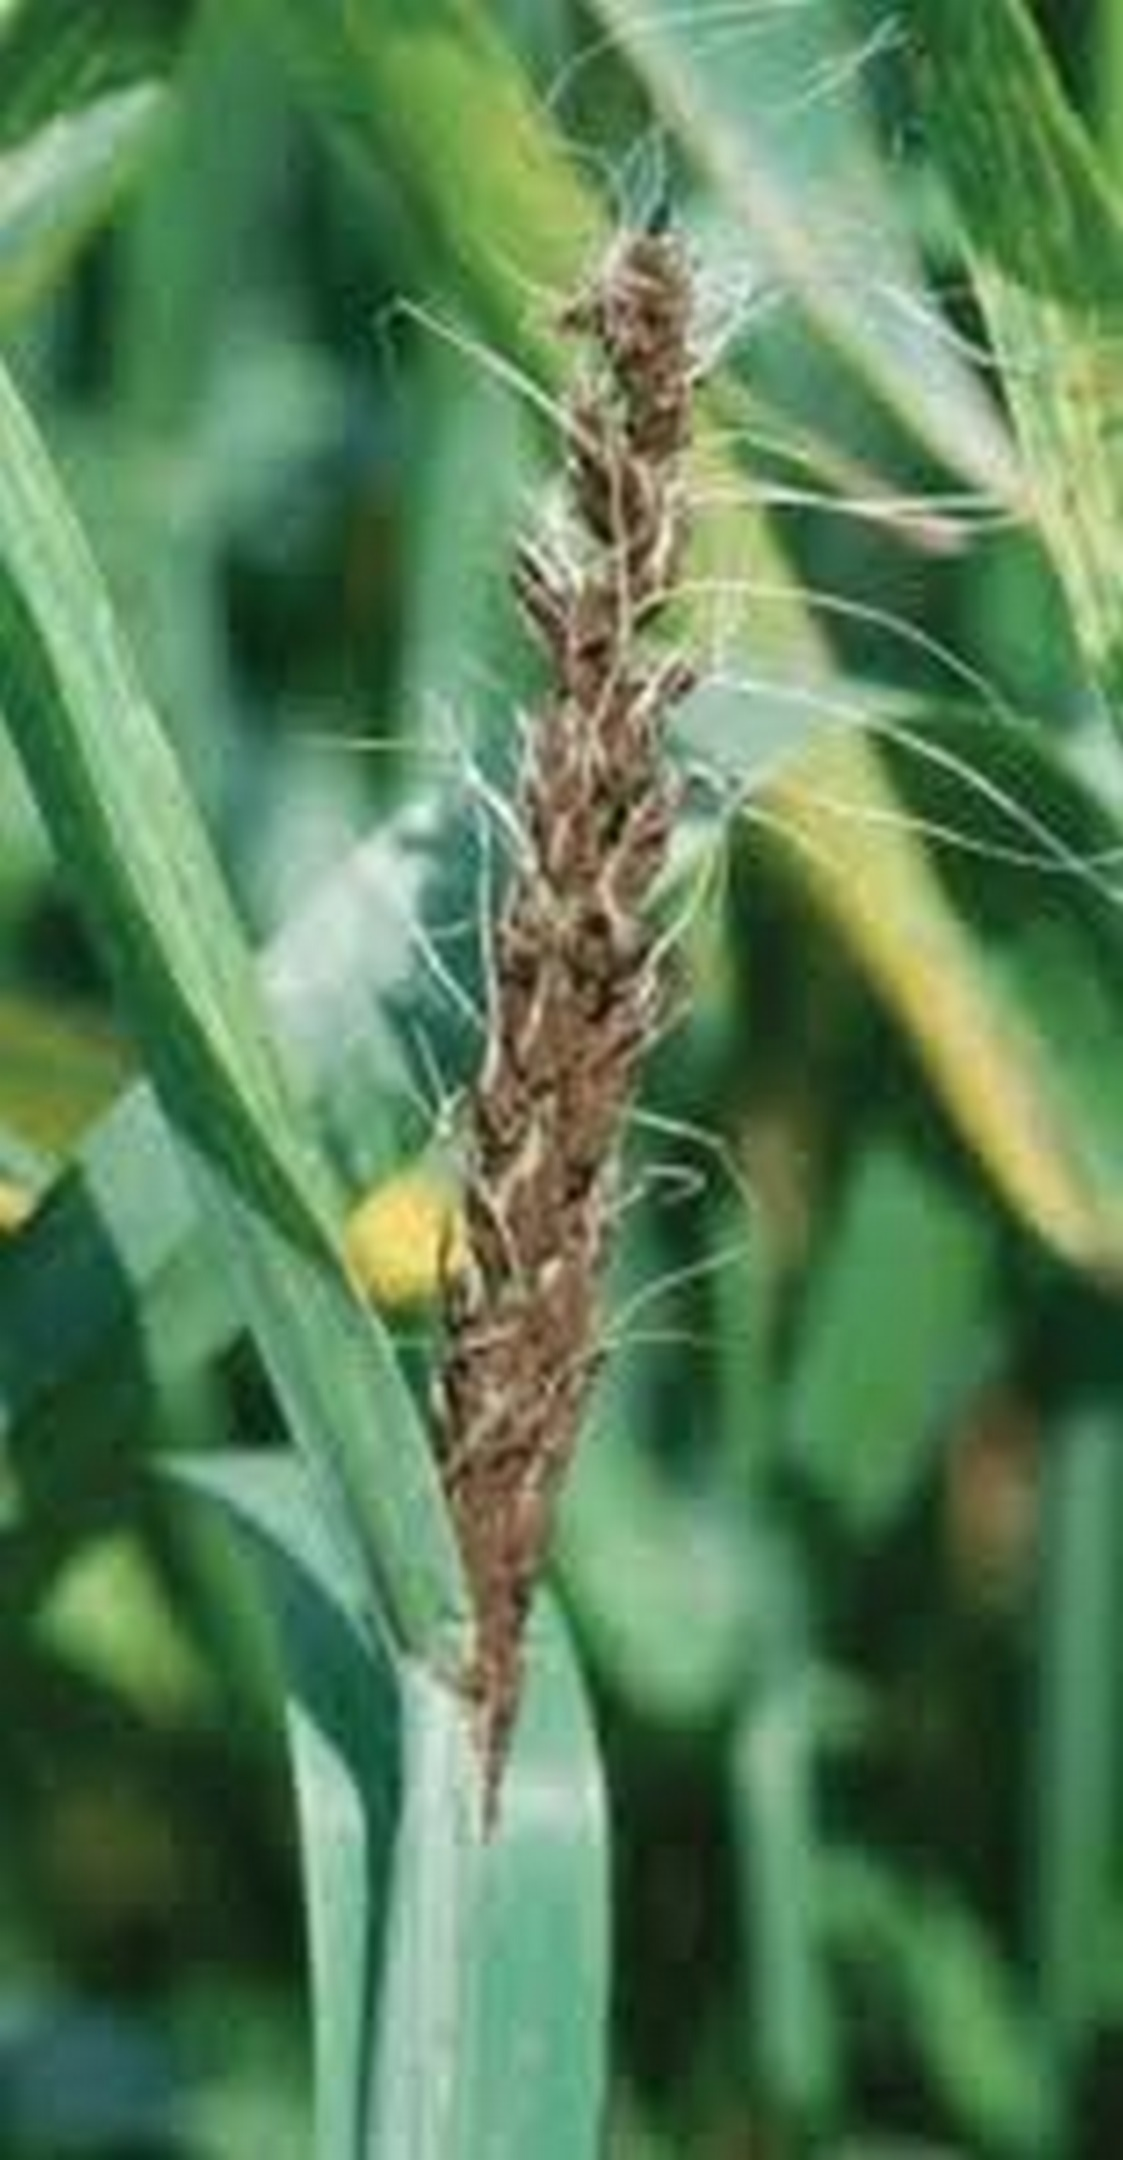Wheat Loose Smut: (311, 180, 769, 1609)
